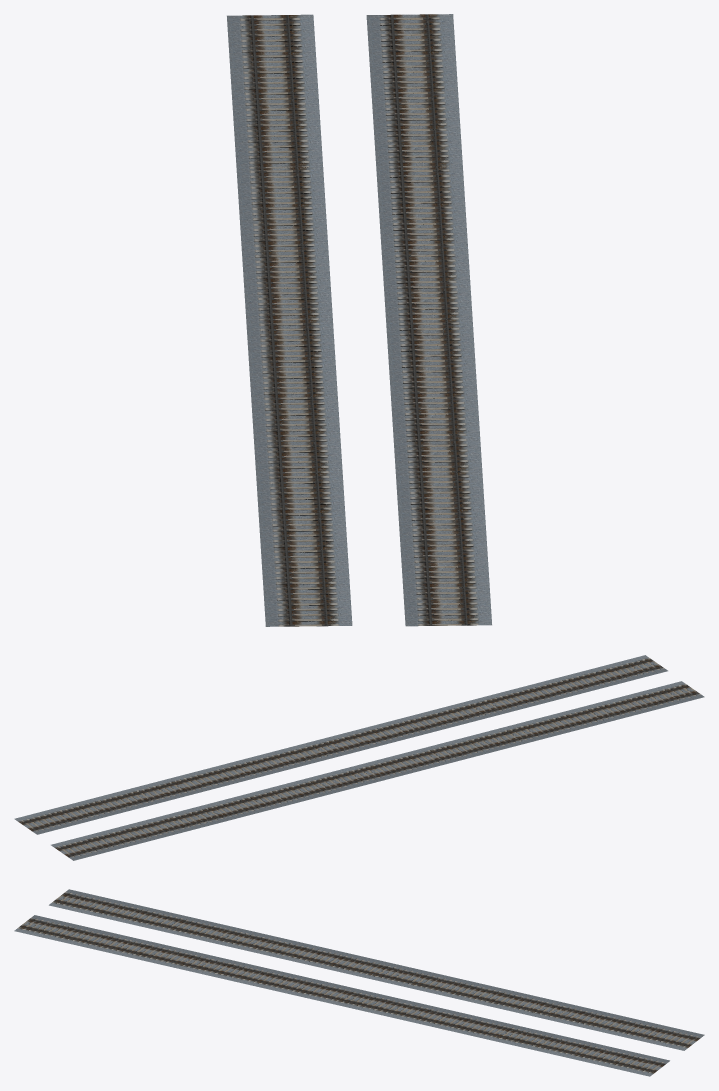
Rendered from guidao.gltf.
3 views of the same model, one above another, from view 1: azimuth 30°, elevation 25°; view 2: azimuth 150°, elevation 25°; view 3: azimuth 270°, elevation 25° (orthographic). The views are drawn at different scales.
Visible parts, largest first — view 1: Plane008, Plane006, Plane007, Plane002, Plane001, Plane004, Plane005, Plane003; view 2: Plane006, Plane001, Plane002, Plane005, Plane007, Plane004, Plane008, Plane003; view 3: Plane007, Plane002, Plane004, Plane006, Plane001, Plane005, Plane008, Plane003.
Part boxes in pixels (x1,y1,x2,y2): Plane008: (366,14,462,168); Plane006: (395,472,491,626); Plane007: (227,14,322,168); Plane002: (246,319,342,473); Plane001: (256,472,352,626); Plane004: (386,319,482,473); Plane005: (376,166,472,320); Plane003: (236,166,332,320); Plane006: (487,655,667,711); Plane001: (523,681,704,737); Plane002: (366,722,546,778); Plane005: (172,737,351,793); Plane007: (51,804,231,860); Plane004: (330,696,509,752); Plane008: (14,778,194,834); Plane003: (208,763,388,819); Plane007: (525,998,704,1050); Plane002: (208,925,386,977); Plane004: (173,951,352,1003); Plane006: (14,915,193,967); Plane001: (49,889,227,941); Plane005: (333,988,511,1039); Plane008: (491,1024,669,1076); Plane003: (367,962,544,1014).
Bounding box in the file's own units: 254 × 0 × 395.
8 materials, 8 textured.
